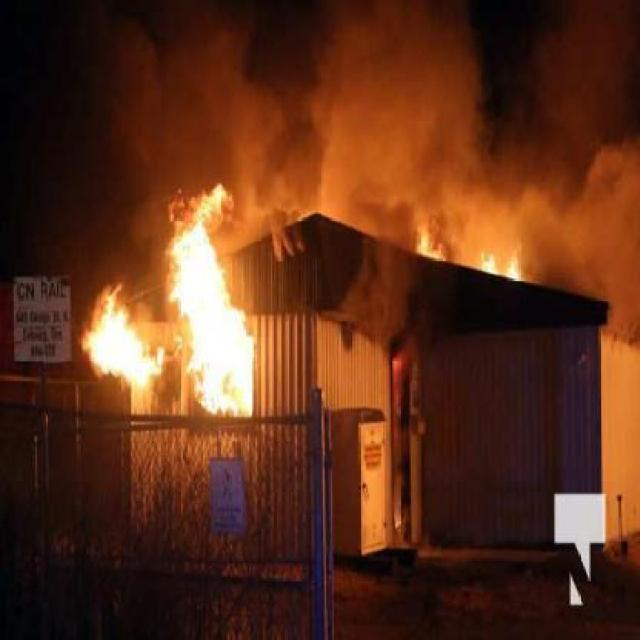Fire: (80, 197, 276, 434), (392, 206, 538, 303)
Smoke: (94, 17, 640, 336)
